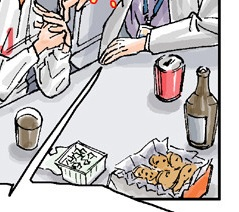beer: (182, 63, 217, 150), (12, 104, 44, 152)
bottle: (181, 60, 217, 150)
can: (152, 50, 186, 105)
cup: (11, 102, 43, 154)
